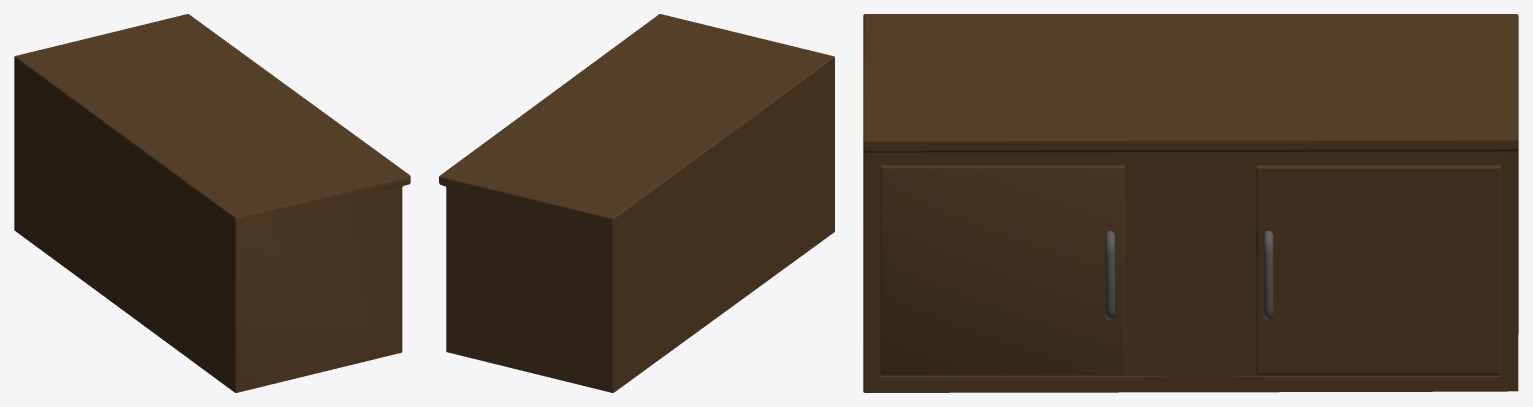
File: Cabine_Grand_2.fbx
3 renders of one model, left to right at view 1: azimuth 30°, elevation 25°; view 2: azimuth 150°, elevation 25°; view 3: azimuth 270°, elevation 25°, orthographic. The views are drawn at different scales.
Visible parts, largest first — view 1: Cabine_Grand_2; view 2: Cabine_Grand_2; view 3: Cabine_Grand_2.
Boxes of the visible parts, x1,y1,x2,y2 form: Cabine_Grand_2: (14,14,410,392); Cabine_Grand_2: (439,14,834,392); Cabine_Grand_2: (863,14,1518,392).
Bounding box in the file's own units: 212 × 200 × 459.
